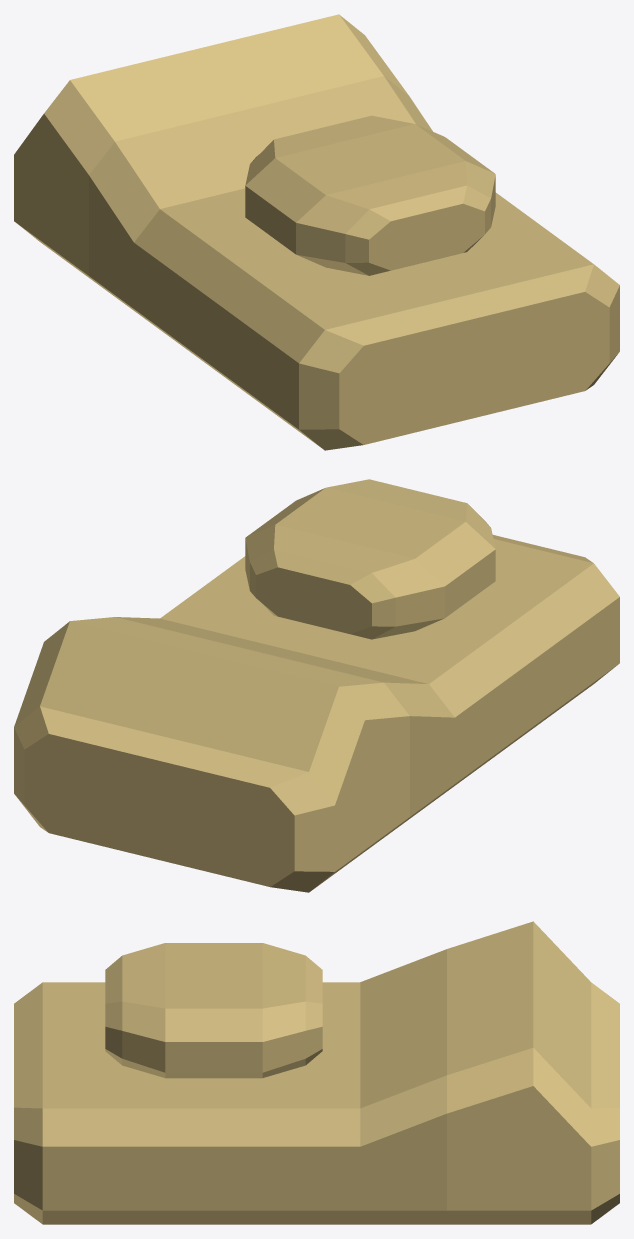
The model's file is tallow_light_b.glb.
3 views of the same model, one above another, from view 1: azimuth 30°, elevation 25°; view 2: azimuth 150°, elevation 25°; view 3: azimuth 270°, elevation 25° (orthographic). The views are drawn at different scales.
Parts seen in each view (by area): view 1: tallow_light_b; view 2: tallow_light_b; view 3: tallow_light_b.
Boxes of the visible parts, x1=… form: tallow_light_b: x1=14, y1=14, x2=619, y2=450; tallow_light_b: x1=14, y1=479, x2=619, y2=892; tallow_light_b: x1=14, y1=921, x2=619, y2=1224.
Bounding box in the file's own units: 3 × 1.73 × 5.1.
